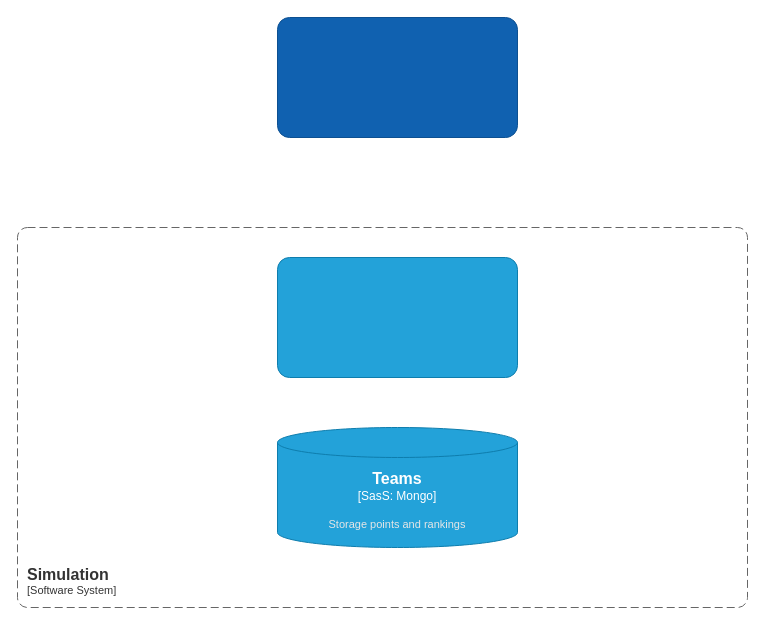
Image size: 765x625. Some labels were removed from this diagram. Here are the shapes that lost their labels. From the top down, the centre of each, then its label:
point 397,77: Data Provider [Software System] Generates domain events from "real world" facts
point 397,317: Coordinator [Container: .Net] Process events and trigger point updates
